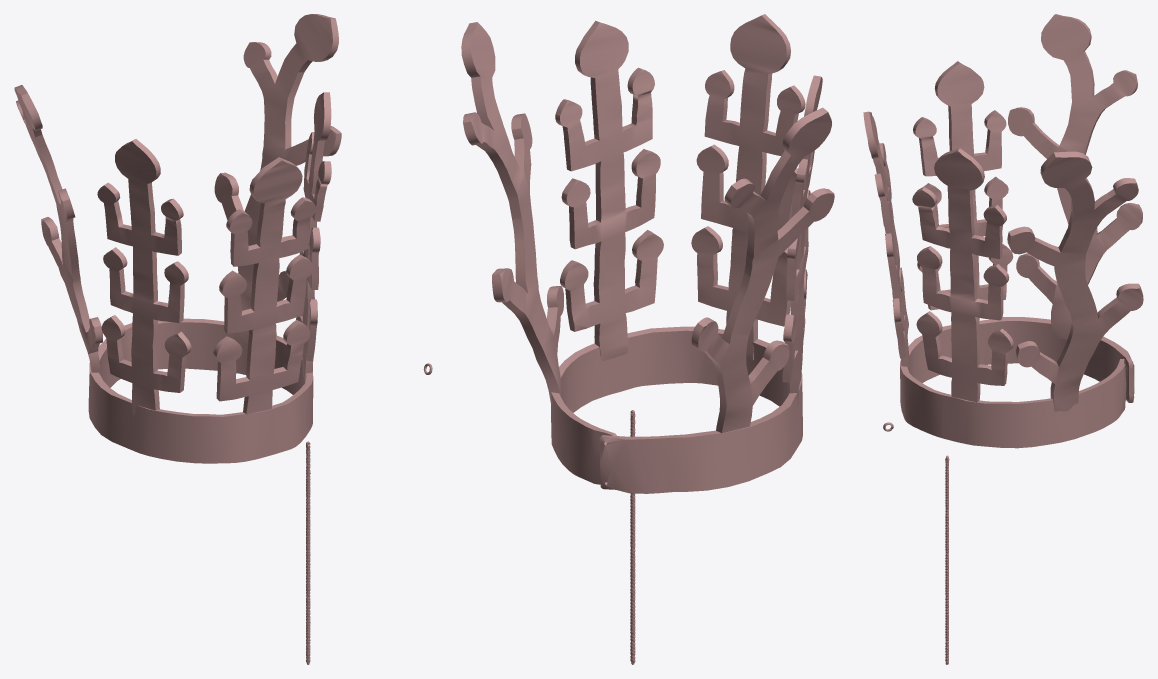
File: crown.glb
3 views of the same model, side by side, from view 1: azimuth 30°, elevation 25°; view 2: azimuth 150°, elevation 25°; view 3: azimuth 270°, elevation 25° (orthographic). The views are drawn at different scales.
Parts seen in each view (by area): view 1: world; view 2: world; view 3: world.
Boxes of the visible parts, x1,y1,x2,y2 form: world: [14, 14, 432, 664]; world: [461, 14, 834, 664]; world: [863, 14, 1143, 664].
Size of the model in its own units: 0.3527 by 0.6166 by 0.2853.
